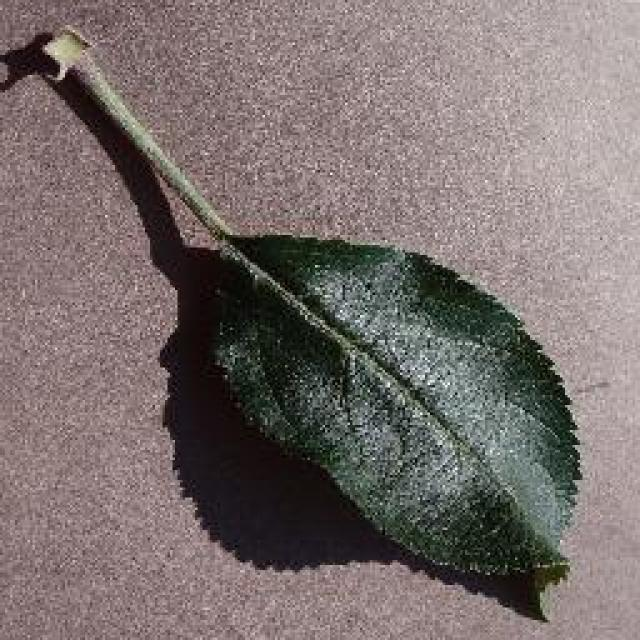apple healthy: (0, 20, 585, 618)
